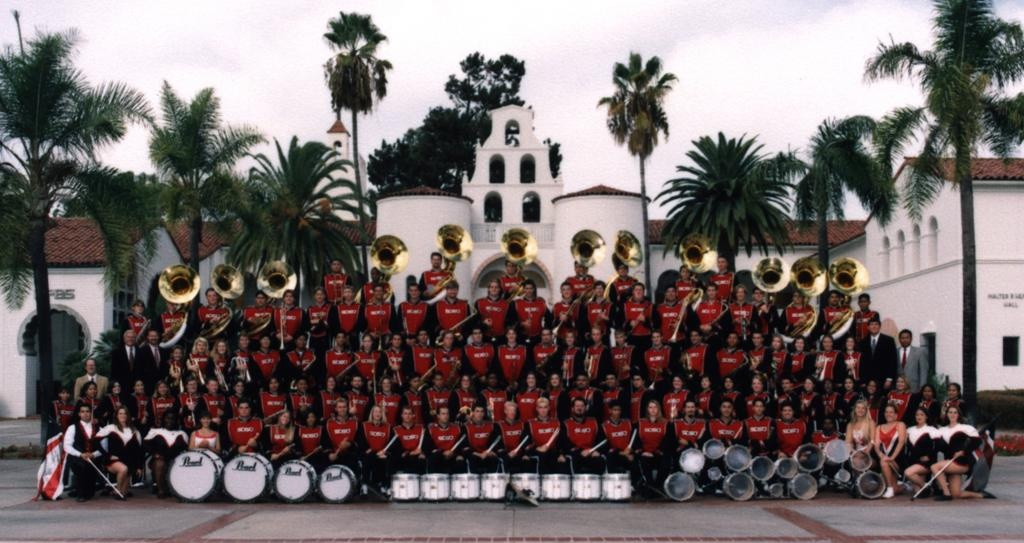human_face: (507, 124, 519, 144), (720, 400, 732, 416), (164, 412, 176, 426), (560, 284, 572, 298), (751, 378, 763, 392), (536, 402, 548, 416), (884, 406, 894, 422), (946, 384, 958, 397), (854, 401, 866, 414), (438, 408, 448, 423), (207, 290, 217, 304), (187, 378, 197, 392), (208, 378, 218, 392), (87, 383, 97, 397), (116, 408, 126, 422), (284, 290, 294, 304), (900, 332, 910, 346), (922, 385, 932, 399), (914, 408, 924, 422), (239, 402, 249, 416), (279, 410, 289, 424), (337, 400, 347, 414), (430, 254, 440, 268), (489, 280, 499, 294), (540, 328, 550, 342), (822, 336, 832, 350), (647, 401, 657, 415), (314, 288, 324, 302), (474, 406, 484, 420), (574, 400, 584, 414), (632, 284, 642, 298), (80, 405, 90, 418), (866, 379, 876, 392), (380, 377, 390, 390), (564, 331, 574, 344), (770, 335, 780, 348), (685, 401, 695, 414), (948, 406, 956, 422), (256, 293, 266, 305), (125, 332, 135, 344), (196, 340, 206, 352), (134, 381, 144, 393), (110, 382, 120, 394), (782, 406, 792, 418), (858, 297, 868, 309), (869, 320, 879, 332), (343, 288, 353, 300), (408, 286, 418, 298), (410, 377, 420, 389), (268, 378, 278, 390), (200, 415, 210, 427), (506, 262, 516, 274), (446, 286, 456, 298), (443, 334, 453, 346), (792, 291, 802, 303), (829, 293, 839, 305), (727, 334, 737, 346), (751, 334, 761, 346), (802, 379, 812, 391), (460, 376, 470, 388), (526, 374, 536, 386), (577, 375, 587, 387), (605, 375, 615, 387), (651, 332, 661, 344), (672, 376, 682, 388), (734, 288, 744, 300), (173, 346, 181, 360), (235, 380, 243, 394), (86, 360, 94, 374), (754, 401, 762, 415), (473, 328, 481, 342), (488, 374, 496, 388), (373, 406, 381, 420), (402, 408, 410, 422), (506, 405, 514, 419), (680, 264, 688, 278), (664, 287, 674, 298), (706, 285, 714, 298), (167, 300, 177, 310), (260, 337, 270, 347), (822, 420, 832, 430), (614, 334, 624, 344), (134, 301, 142, 313), (148, 330, 156, 342), (216, 341, 224, 353), (158, 383, 166, 395), (60, 388, 68, 400), (754, 288, 762, 300), (844, 378, 852, 390), (896, 377, 904, 389), (374, 286, 382, 298), (297, 335, 305, 347), (336, 332, 344, 344), (362, 336, 370, 348), (392, 335, 400, 347), (418, 330, 426, 342), (298, 380, 306, 392), (306, 412, 314, 424), (506, 329, 514, 341), (795, 338, 803, 350), (700, 377, 708, 389), (780, 378, 788, 390), (434, 374, 442, 386), (550, 374, 558, 386), (632, 375, 640, 387), (592, 329, 600, 341), (691, 331, 699, 343), (717, 256, 725, 268), (239, 335, 247, 346), (371, 269, 379, 280), (846, 338, 854, 349), (524, 283, 532, 294), (724, 377, 732, 388), (612, 405, 620, 416), (332, 260, 340, 270), (352, 376, 360, 386), (574, 263, 582, 273), (595, 285, 603, 295), (328, 376, 334, 388), (824, 380, 830, 392), (618, 264, 624, 274)
